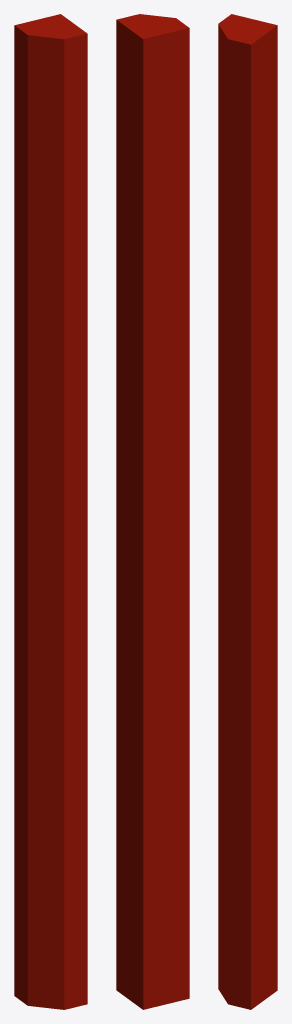
File: corner 1.fbx
The picture shows the model from 3 angles, left to right: view 1: azimuth 30°, elevation 25°; view 2: azimuth 210°, elevation 25°; view 3: azimuth 330°, elevation 25°; orthographic projection.
Visible parts, largest first — view 1: corner; view 2: corner; view 3: corner.
Part boxes in pixels (box(x1,y1,x2,y2)): corner: box(14, 14, 87, 1009); corner: box(116, 14, 189, 1009); corner: box(218, 14, 277, 1009).
Size of the model in its own units: 200 by 4000 by 200.
